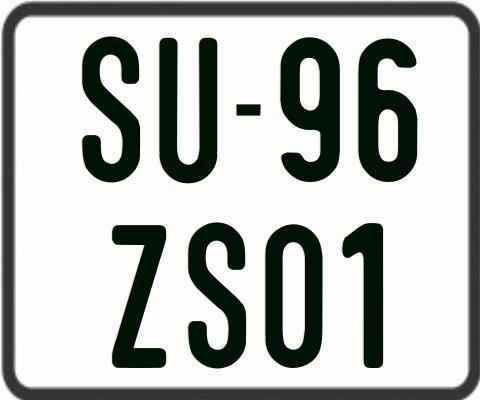0: (265, 223, 327, 370)
1: (340, 220, 383, 369)
6: (358, 38, 418, 182)
9: (278, 35, 344, 180)
S: (79, 35, 140, 187), (187, 222, 245, 369)
U: (157, 38, 220, 189)
Z: (109, 222, 165, 367)
